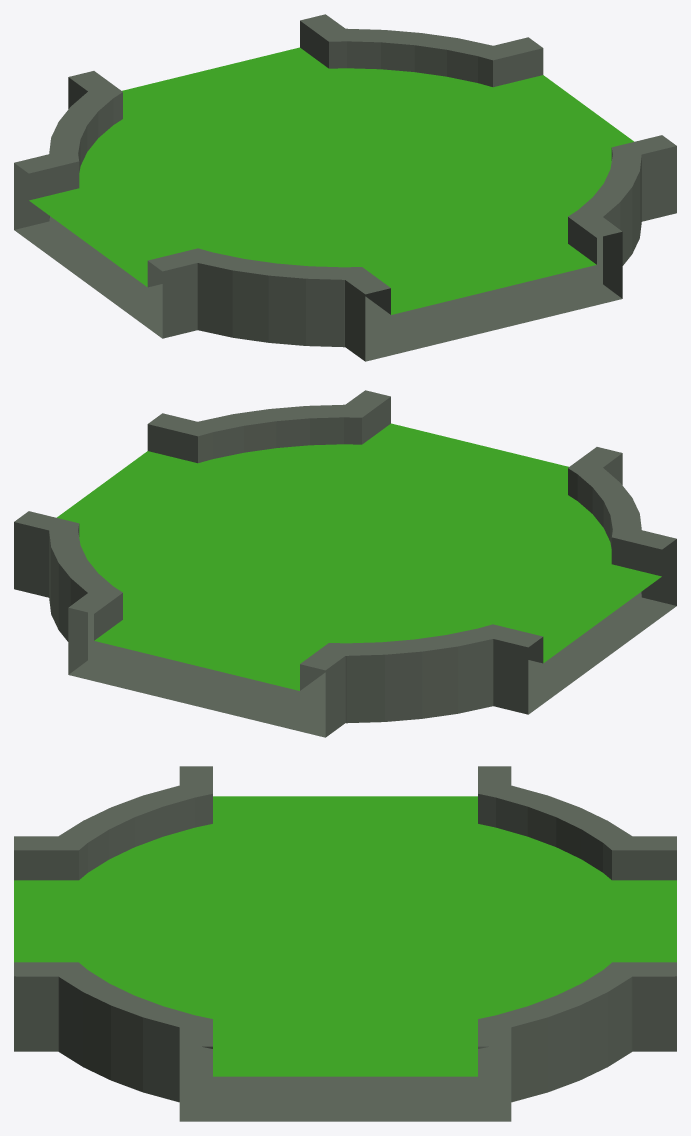
The model's file is CrossroadsCircle.fbx.
3 views of the same model, one above another, from view 1: azimuth 30°, elevation 25°; view 2: azimuth 150°, elevation 25°; view 3: azimuth 270°, elevation 25° (orthographic). The views are drawn at different scales.
Visible parts, largest first — view 1: Plane.029; view 2: Plane.029; view 3: Plane.029.
Boxes of the visible parts, x1=… form: Plane.029: x1=14, y1=14, x2=676, y2=361; Plane.029: x1=14, y1=390, x2=676, y2=737; Plane.029: x1=14, y1=766, x2=676, y2=1121.
Bounding box in the file's own units: 400 × 50 × 400.
